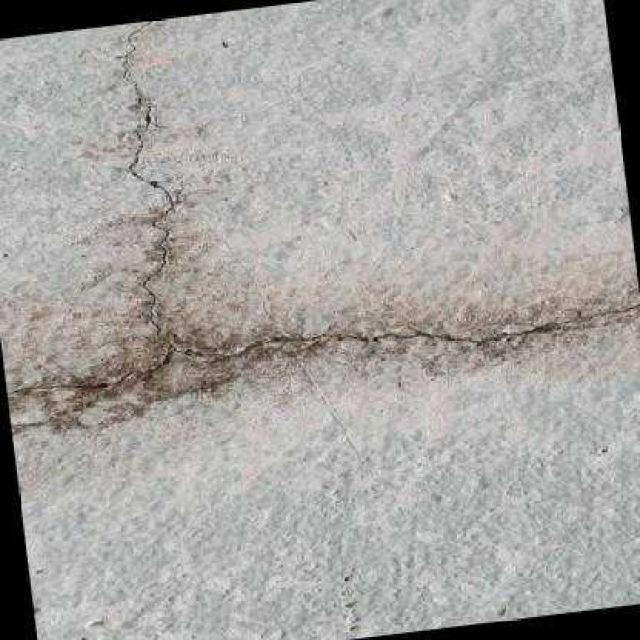D00: (6, 18, 640, 393)
